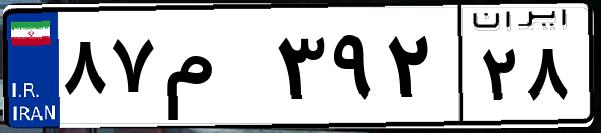2: (385, 28, 445, 110), (475, 38, 525, 113)
3: (270, 28, 330, 110)
7: (110, 28, 158, 98)
8: (57, 26, 110, 100), (525, 38, 570, 115)
9: (330, 28, 385, 110)
م: (158, 20, 270, 120)
